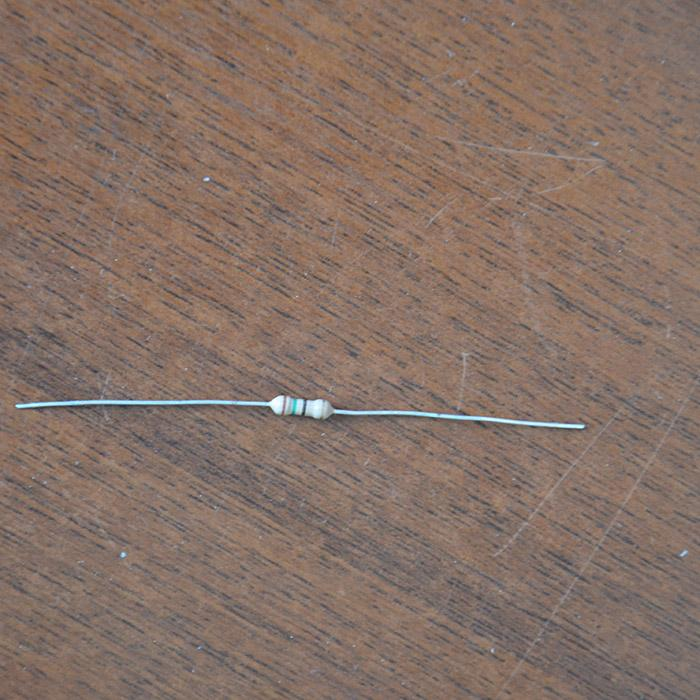resistor: (269, 395, 333, 419)
